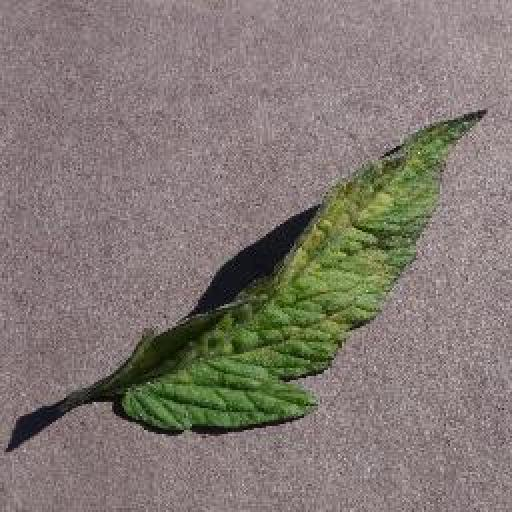disease_tomato: (120, 108, 486, 433)
